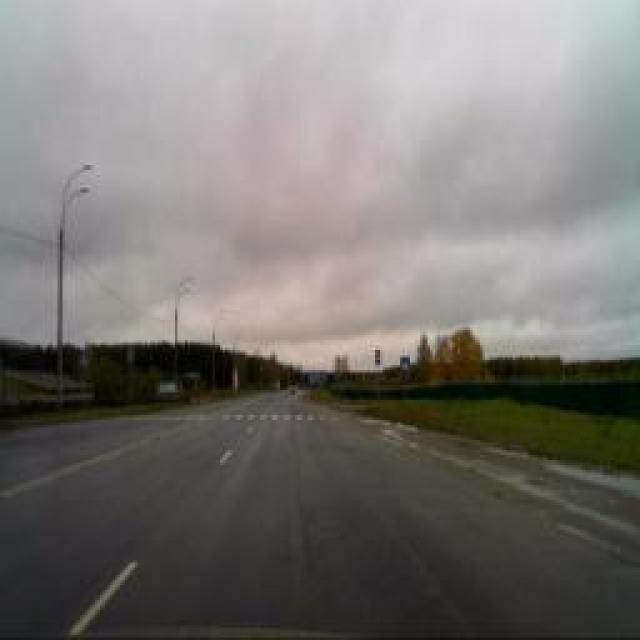sign: (400, 355, 410, 375), (80, 350, 90, 370)
